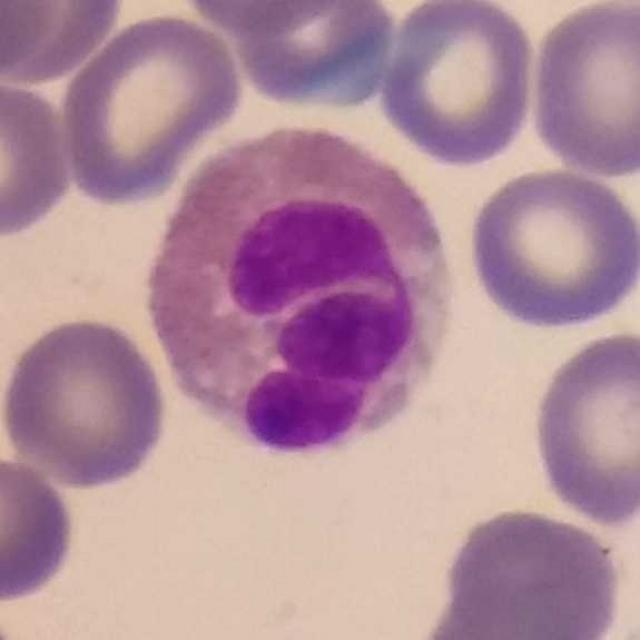eosino: (145, 119, 459, 452)
